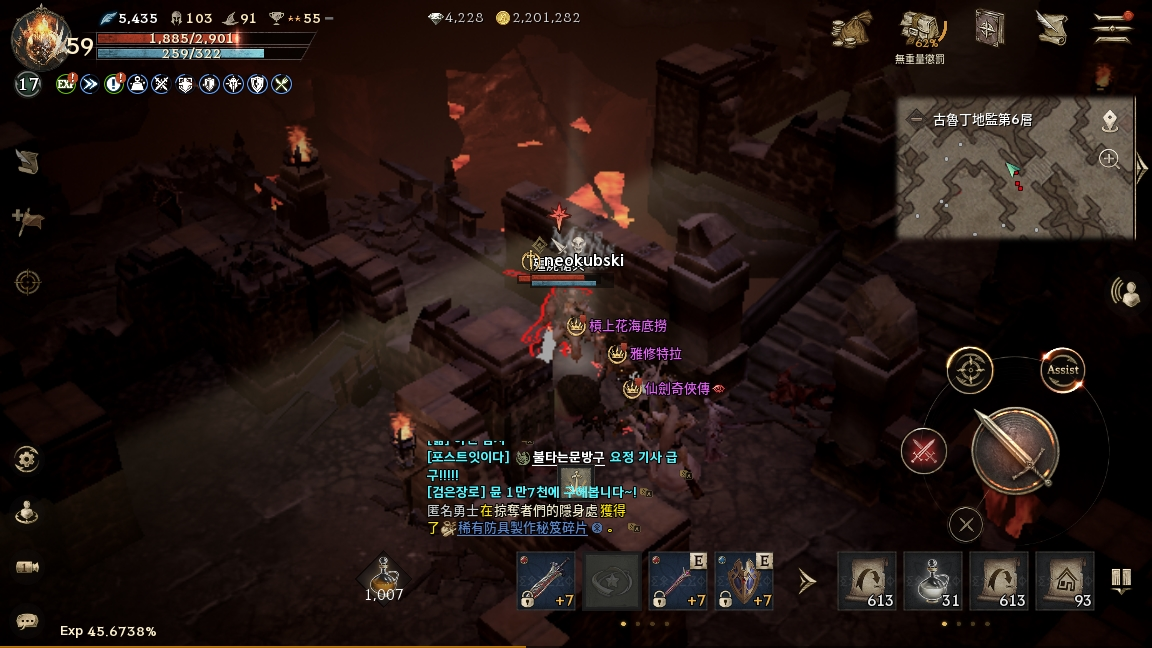enemy: (566, 313, 589, 337), (621, 376, 643, 401), (606, 340, 628, 364)
